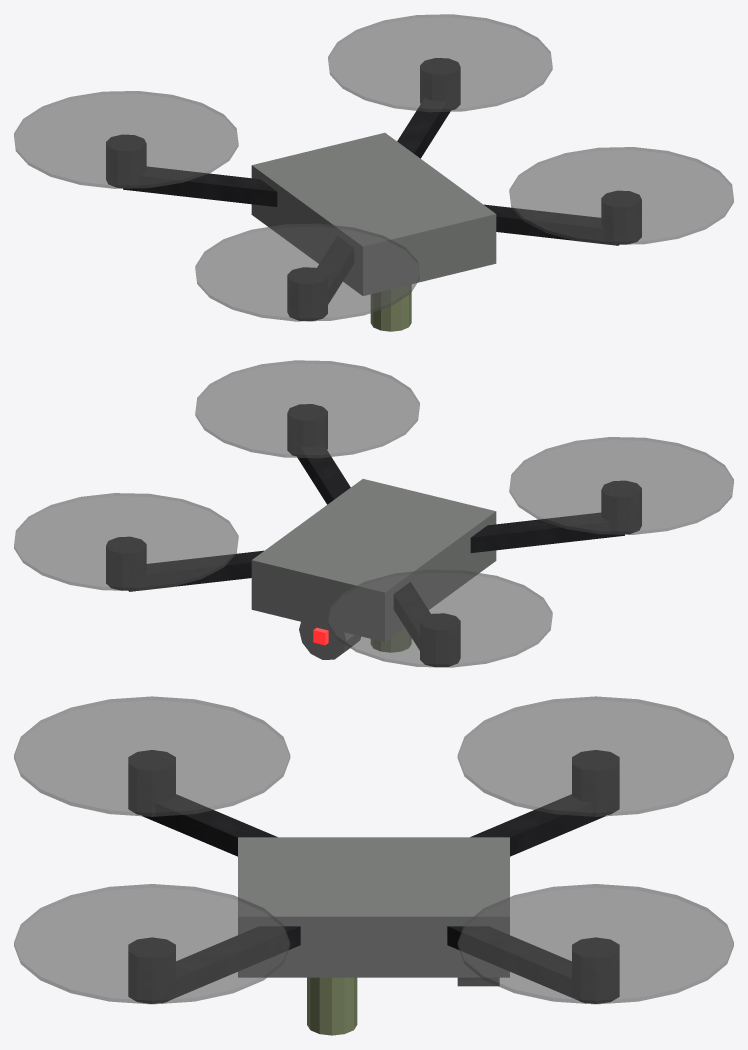
File: drone.glb
3 renders of one model, top to bottom at view 1: azimuth 30°, elevation 25°; view 2: azimuth 150°, elevation 25°; view 3: azimuth 270°, elevation 25°, orthographic. The views are drawn at different scales.
Parts seen in each view (by area): view 1: drone; view 2: drone; view 3: drone.
Boxes of the visible parts, x1,y1,x2,y2 form: drone: [14, 14, 733, 331]; drone: [14, 360, 733, 667]; drone: [14, 696, 733, 1035].
Size of the model in its own units: 1.72 by 0.465 by 1.72.
Materials: 5 (1 with a texture image).
